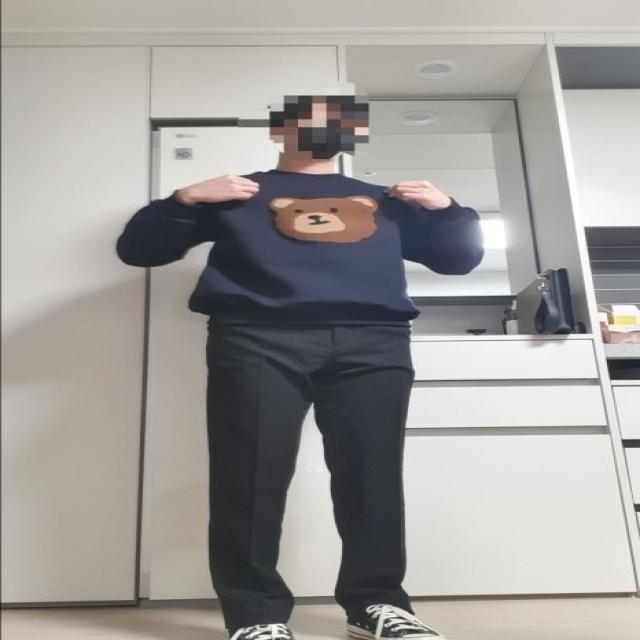mtm: (116, 172, 484, 327)
slacks: (208, 306, 418, 624)
